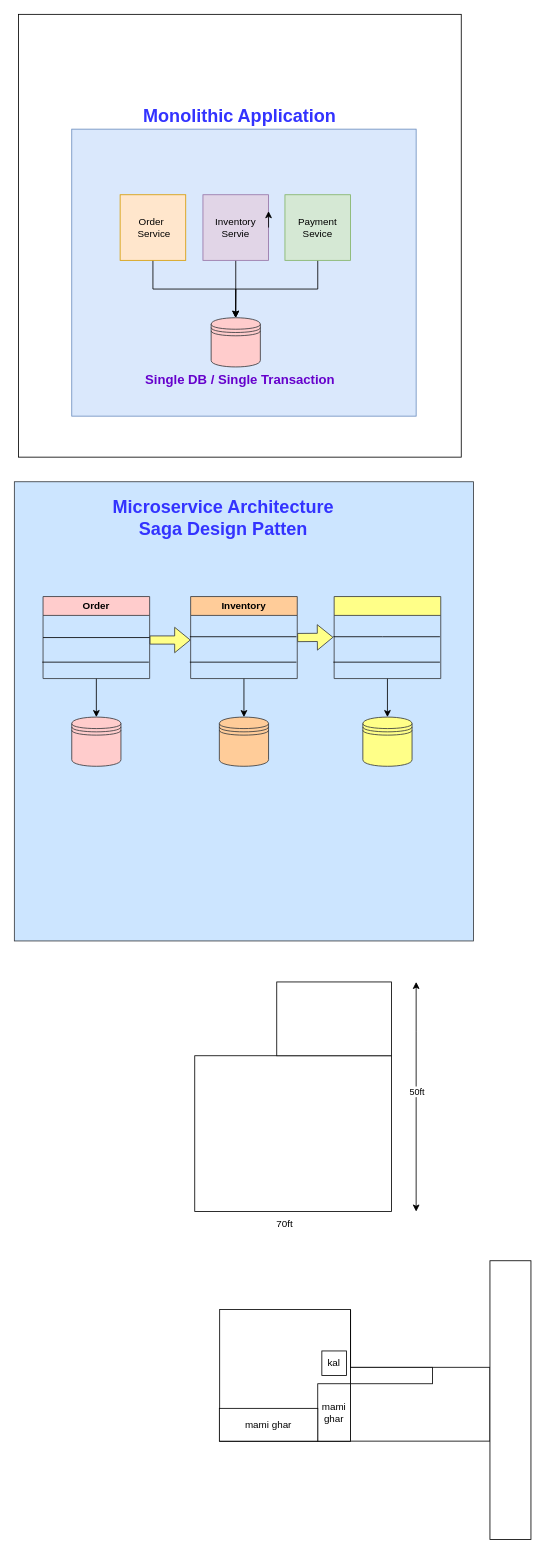
This 545x1554 diagram has some shape labels left out. The shapes that lost their labels are listed below. From the top down, each one's centre as x and y in pixels, then its label:
[235,342]: Database
[387,637]: Payment
[391,1375]: Rasta
[510,1400]: Road
